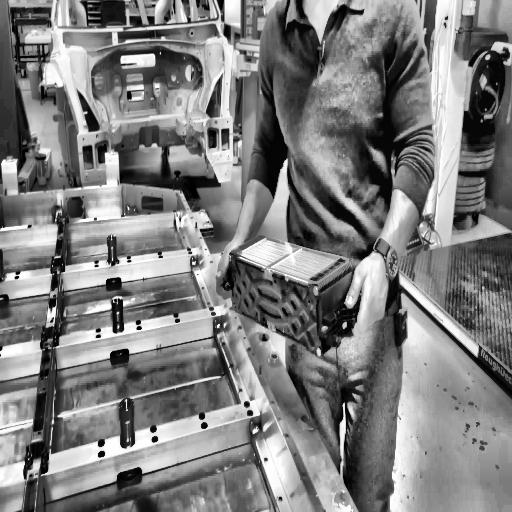b_casing: (0, 182, 361, 512)
battery_module: (224, 228, 356, 360)
